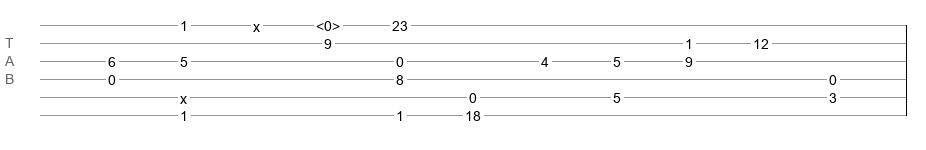0: (108, 72, 116, 82), (396, 54, 404, 64), (469, 90, 477, 100), (829, 72, 837, 82)
1: (180, 18, 188, 28), (180, 108, 188, 118), (396, 108, 404, 118), (685, 36, 693, 46)
12: (753, 36, 769, 46)
18: (465, 108, 481, 118)
23: (392, 18, 408, 28)
3: (829, 90, 837, 100)
4: (541, 54, 549, 64)
5: (180, 54, 188, 64), (613, 54, 621, 64), (613, 90, 621, 100)
6: (108, 54, 116, 64)
8: (396, 72, 404, 82)
9: (324, 36, 332, 46), (685, 54, 693, 64)
harmonic: (316, 18, 340, 28)
x: (180, 91, 187, 99), (253, 19, 260, 27)
